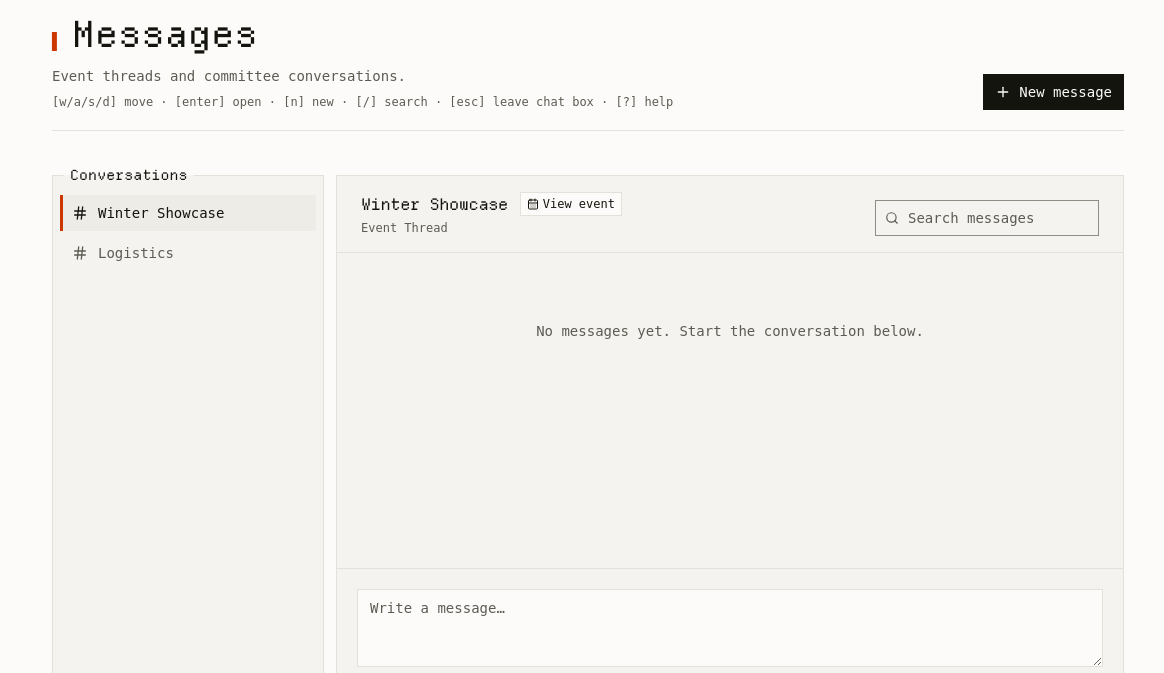
Test case: MessagesPage › the conversation in the URL › writes the conversation the reader picks back to the URL
Expected: the heading "Winter Showcase" is shown, [361,192,508,216]
Step 1. Click the button "Logistics" → (188, 253), box [60,235,316,271]
(page scrolled)
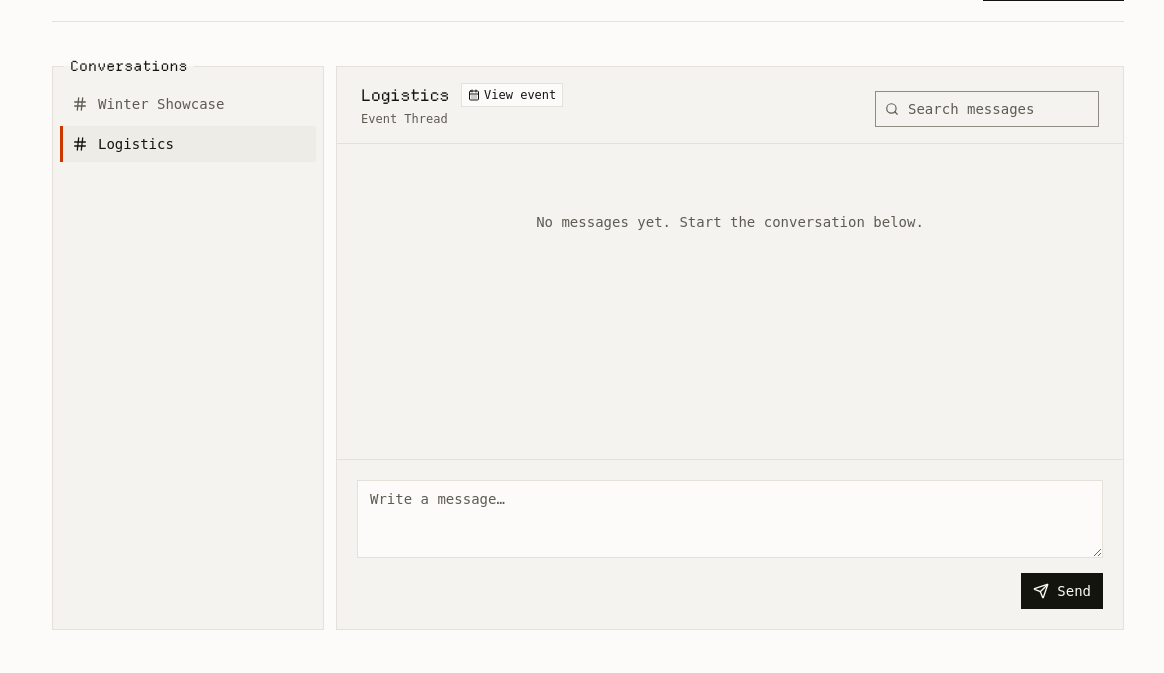
Expected: the heading "Logistics" is shown, [361,83,449,107]
